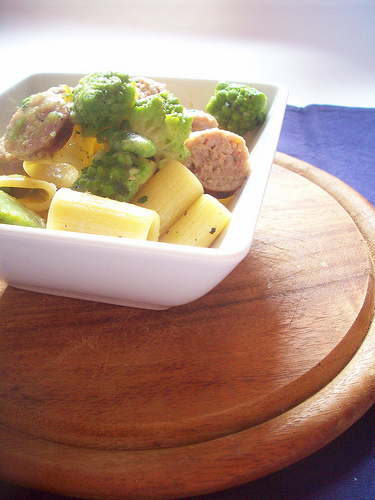broccoli: (72, 70, 161, 143), (206, 80, 267, 135)
